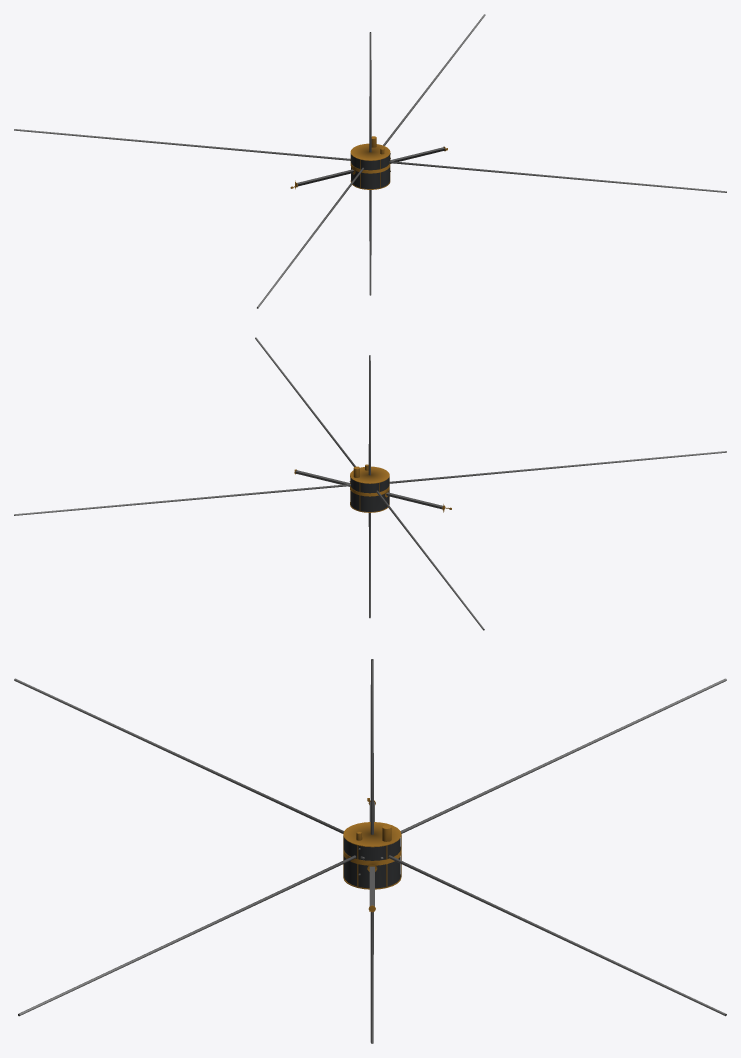
File: space-satellites-small-satellite_v1.fbx
3 renders of one model, top to bottom at view 1: azimuth 30°, elevation 25°; view 2: azimuth 150°, elevation 25°; view 3: azimuth 270°, elevation 25°, orthographic. The views are drawn at different scales.
Parts seen in each view (by area): view 1: Small Satellite_v1; view 2: Small Satellite_v1; view 3: Small Satellite_v1.
Part boxes in pixels (x1,y1,x2,y2): Small Satellite_v1: (14, 14, 726, 308); Small Satellite_v1: (14, 337, 726, 630); Small Satellite_v1: (14, 659, 726, 1043).
Bounding box in the file's own units: 3 × 1.6 × 2.69.
